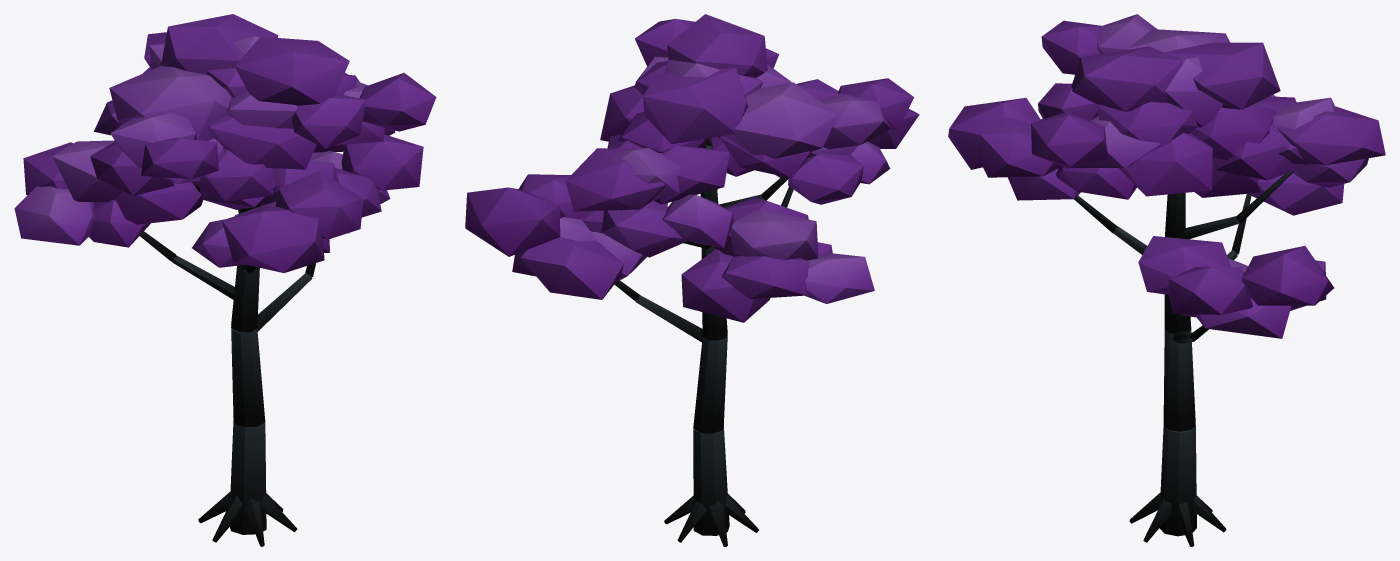
File: dusk_tree.glb
3 renders of one model, left to right at view 1: azimuth 30°, elevation 25°; view 2: azimuth 150°, elevation 25°; view 3: azimuth 270°, elevation 25°, orthographic. The views are drawn at different scales.
Visible parts, largest first — view 1: dusk_tree; view 2: dusk_tree; view 3: dusk_tree.
Boxes of the visible parts, x1,y1,x2,y2 form: dusk_tree: [14, 14, 436, 546]; dusk_tree: [465, 14, 919, 546]; dusk_tree: [948, 14, 1385, 546].
Bounding box in the file's own units: 13.12 × 15.39 × 12.68.
Materials: 1 (1 with a texture image).
